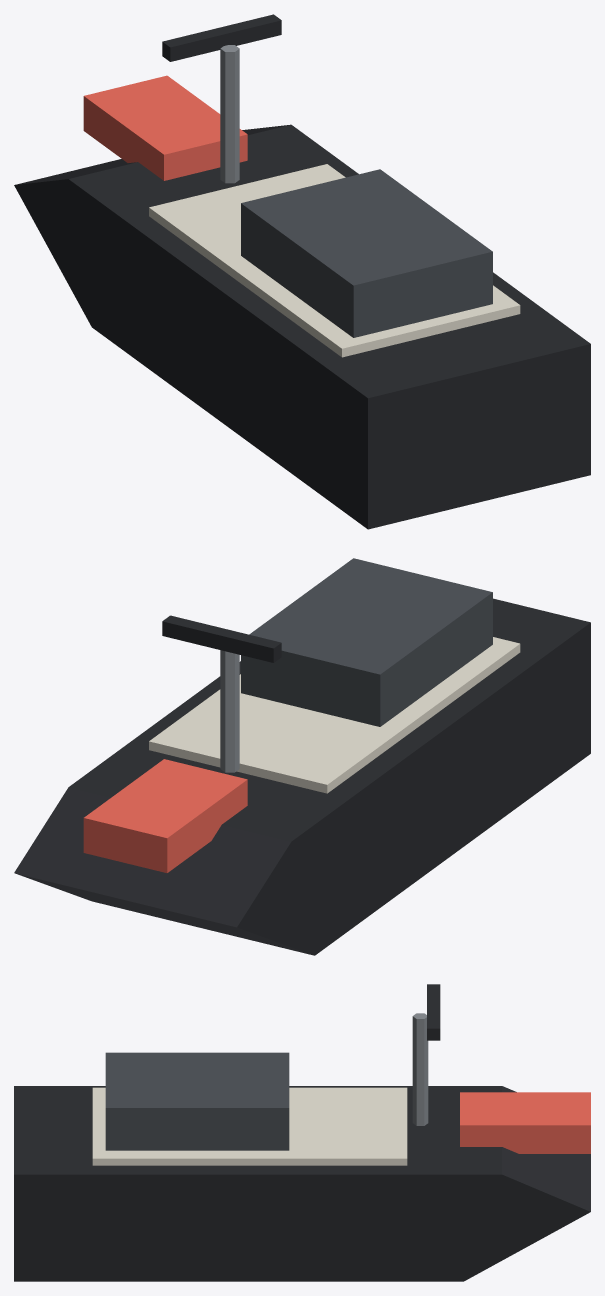
The model's file is marine.pwc.glb.
3 renders of one model, top to bottom at view 1: azimuth 30°, elevation 25°; view 2: azimuth 150°, elevation 25°; view 3: azimuth 270°, elevation 25°, orthographic. The views are drawn at different scales.
Visible parts, largest first — view 1: marine.pwc; view 2: marine.pwc; view 3: marine.pwc.
Boxes of the visible parts, bbox=[...] form: marine.pwc: bbox=[14, 14, 590, 529]; marine.pwc: bbox=[14, 558, 590, 955]; marine.pwc: bbox=[14, 984, 590, 1281].
Size of the model in its own units: 0.8 by 0.97 by 2.2.
